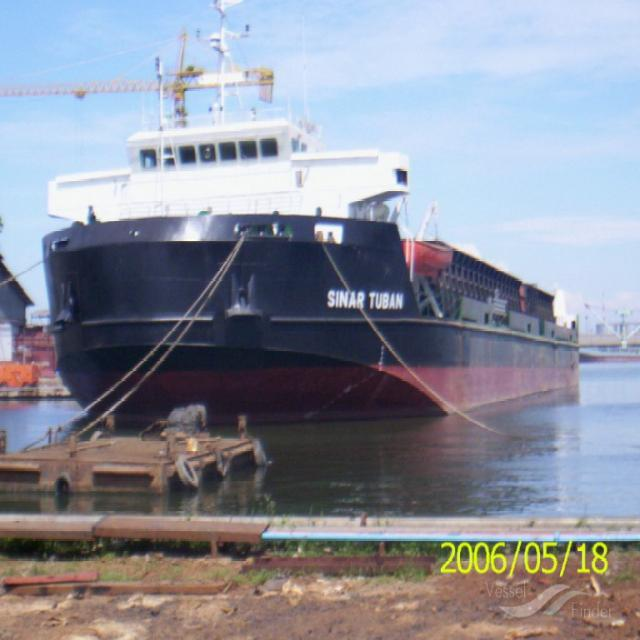Bulk Carrier: (34, 104, 595, 412)
